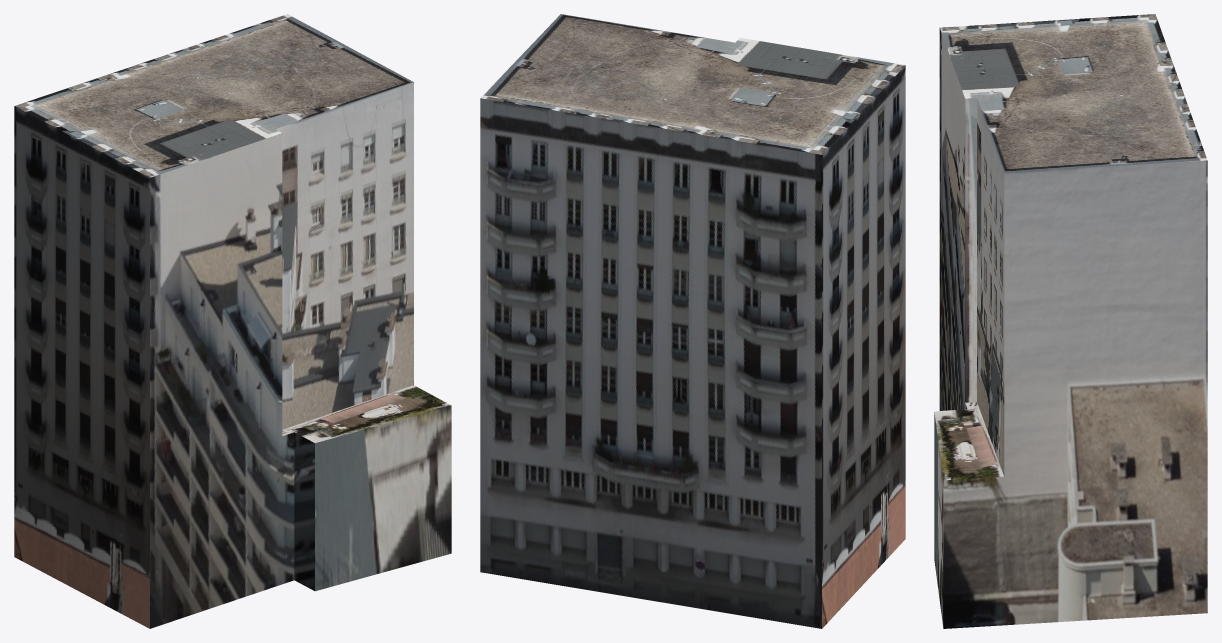
3 views of the same model, side by side, from view 1: azimuth 30°, elevation 25°; view 2: azimuth 150°, elevation 25°; view 3: azimuth 270°, elevation 25° (orthographic). The views are drawn at different scales.
Visible parts, largest first — view 1: Z_UP; view 2: Z_UP; view 3: Z_UP.
Boxes of the visible parts, x1,y1,x2,y2 form: Z_UP: (14,14,451,628); Z_UP: (480,14,905,628); Z_UP: (934,14,1207,628).
Size of the model in its own units: 23.93 by 31.12 by 17.03.
2 materials, 1 textured.
